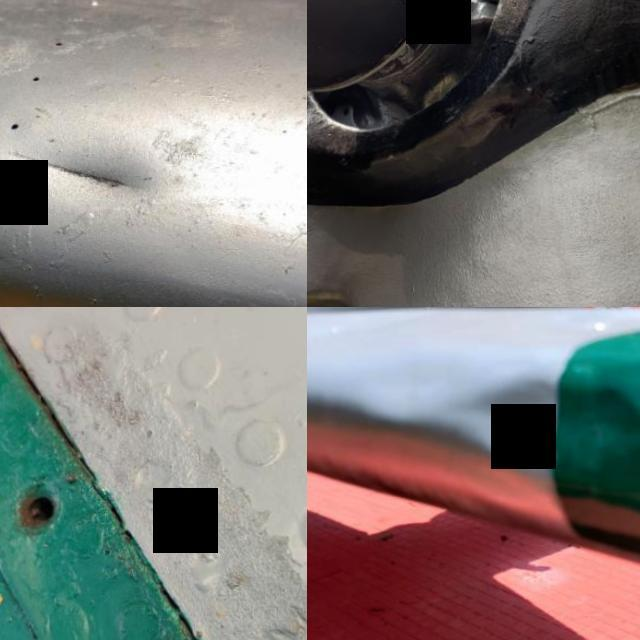Crack: (310, 0, 429, 26)
Dent: (419, 354, 640, 503), (0, 93, 155, 224)
Missing_Fastener: (0, 467, 82, 556)
